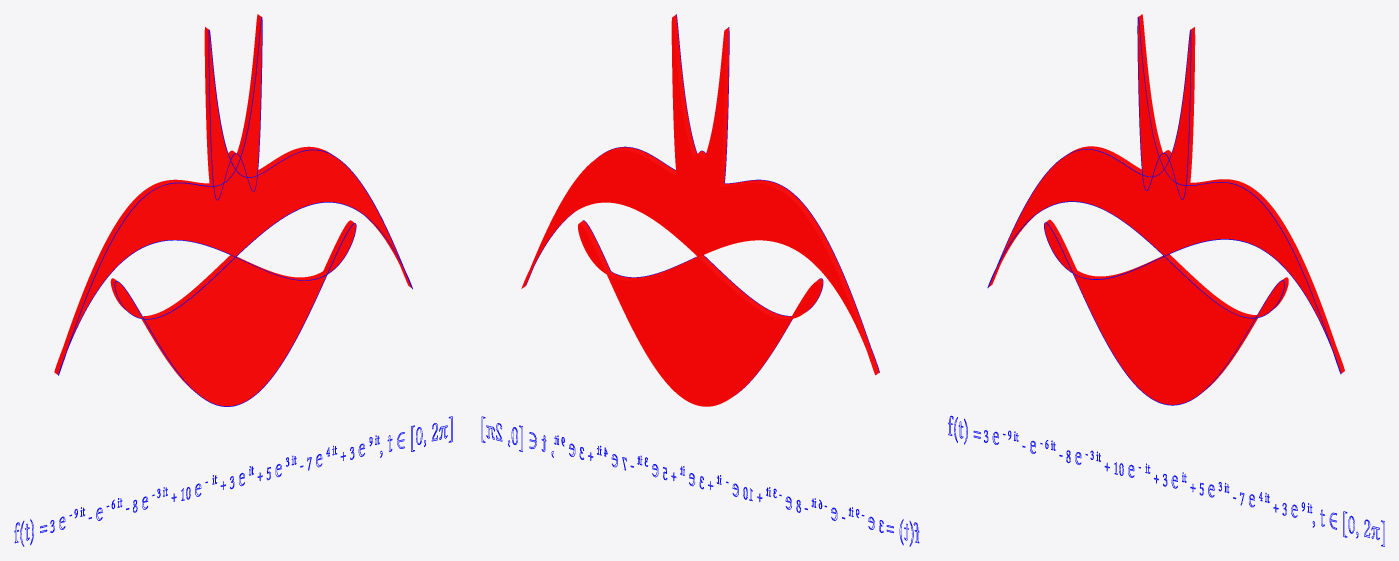
Rendered from SimpleBeauty55.glb.
3 renders of one model, left to right at view 1: azimuth 30°, elevation 25°; view 2: azimuth 150°, elevation 25°; view 3: azimuth 330°, elevation 25°, orthographic.
Size of the model in its own units: 1.2 by 1.24 by 0.0209.
